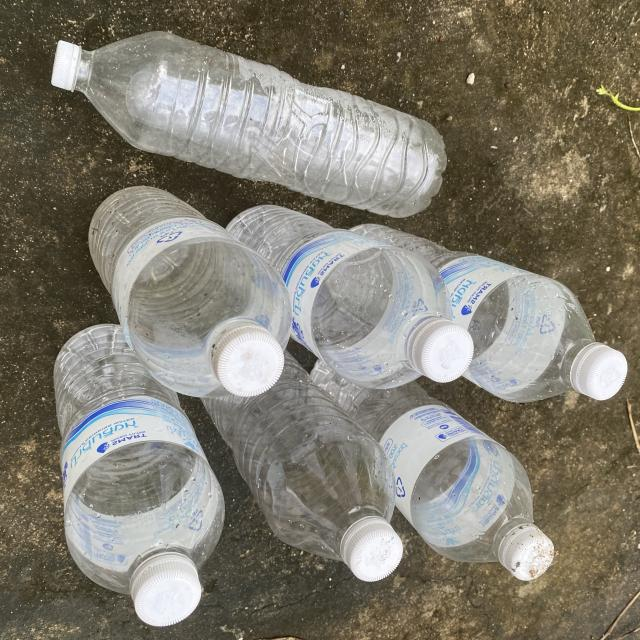plastik: (53, 32, 447, 217), (310, 361, 554, 581), (54, 324, 225, 627), (352, 225, 627, 402), (203, 352, 402, 582), (227, 206, 474, 388), (88, 186, 291, 397)
